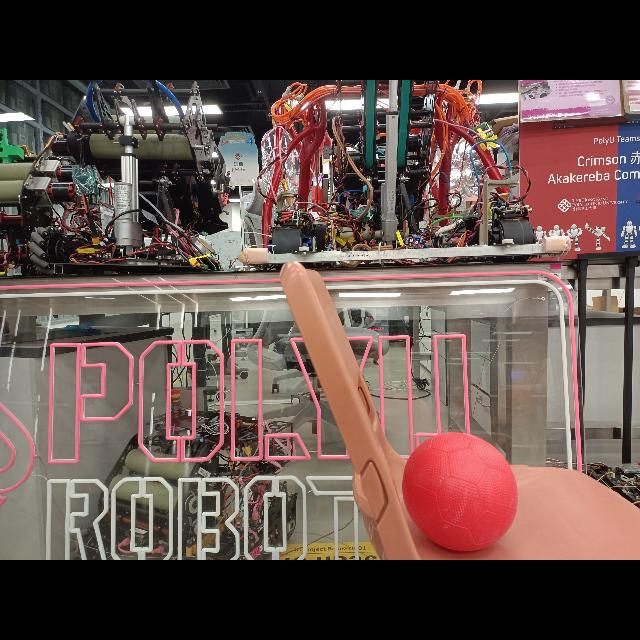R: (402, 432, 518, 552)
